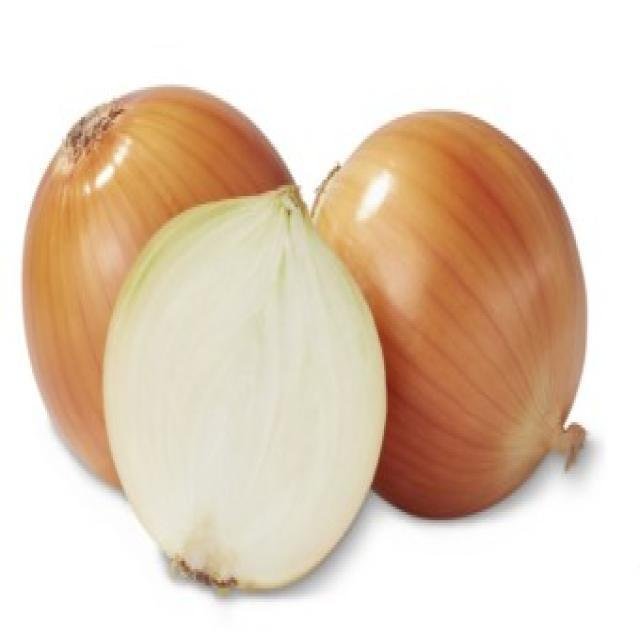Onion: (102, 184, 389, 595), (21, 85, 304, 497), (310, 109, 589, 521)
